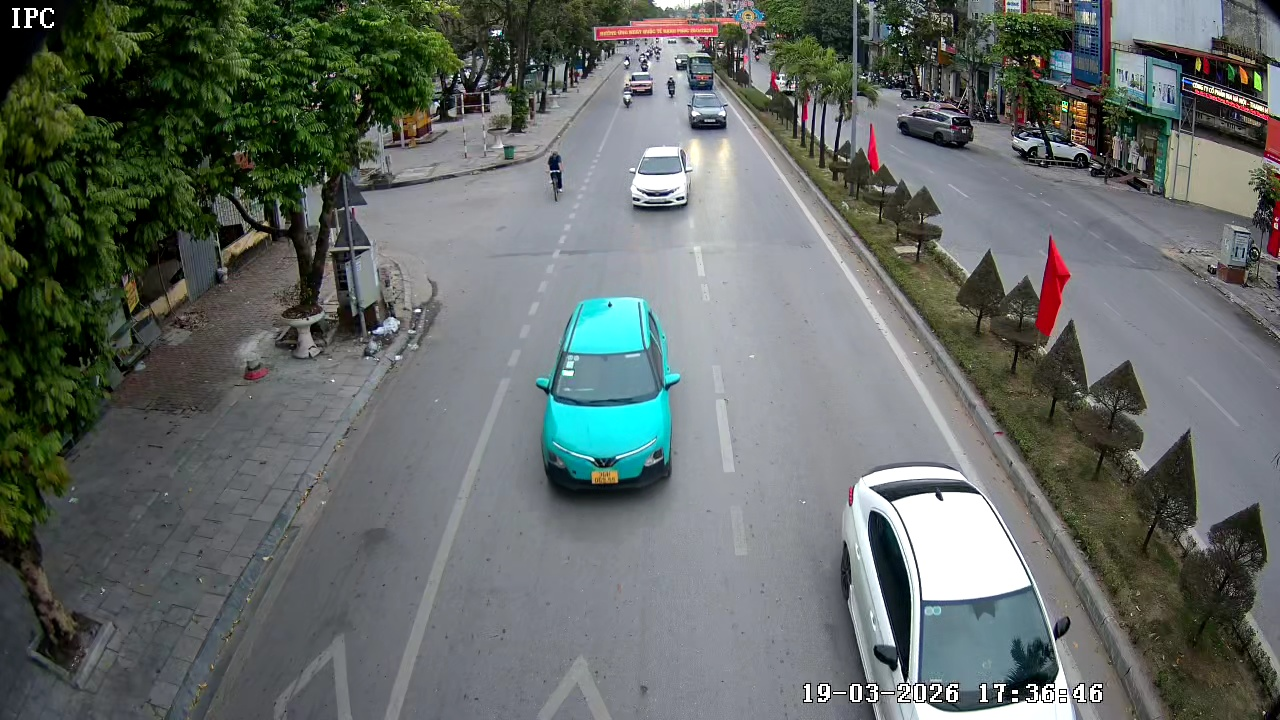bike: (543, 147, 569, 200)
car: (828, 455, 1097, 719), (536, 297, 681, 497), (628, 145, 693, 213), (897, 99, 975, 149), (686, 92, 728, 130), (626, 70, 653, 95)
motorbike: (622, 83, 634, 107), (667, 75, 678, 98)
truck: (1208, 143, 1279, 405), (685, 50, 723, 91)
